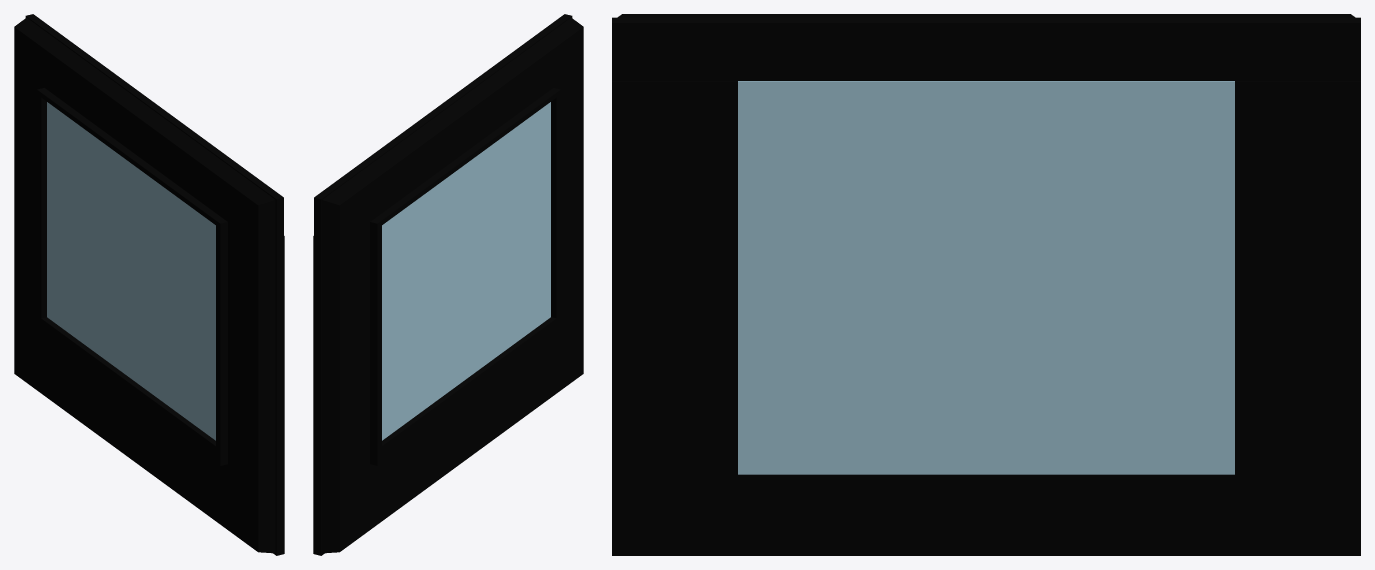
File: IAIOvenDoor.FBX
3 views of the same model, side by side, from view 1: azimuth 30°, elevation 25°; view 2: azimuth 150°, elevation 25°; view 3: azimuth 270°, elevation 25° (orthographic). The views are drawn at different scales.
Parts seen in each view (by area): view 1: IAIOvenDoor; view 2: IAIOvenDoor; view 3: IAIOvenDoor.
Part boxes in pixels (bbox=[...]): IAIOvenDoor: bbox=[14, 14, 284, 555]; IAIOvenDoor: bbox=[313, 14, 583, 555]; IAIOvenDoor: bbox=[612, 14, 1360, 555].
Size of what is drawn, in the model's own units: 4.1 by 45.5 by 58.
